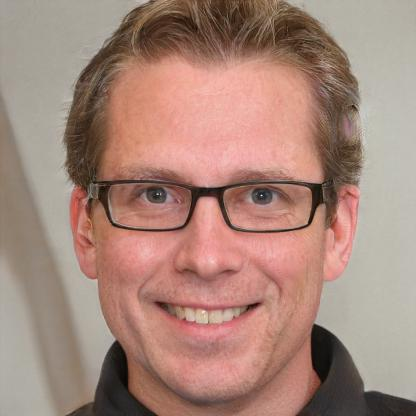glasses: (88, 174, 330, 238)
